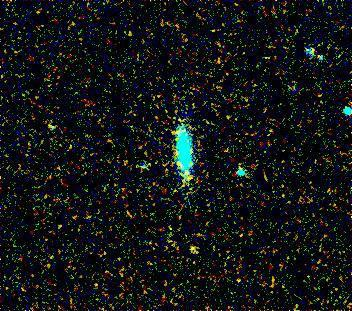star: (181, 227, 211, 257)
